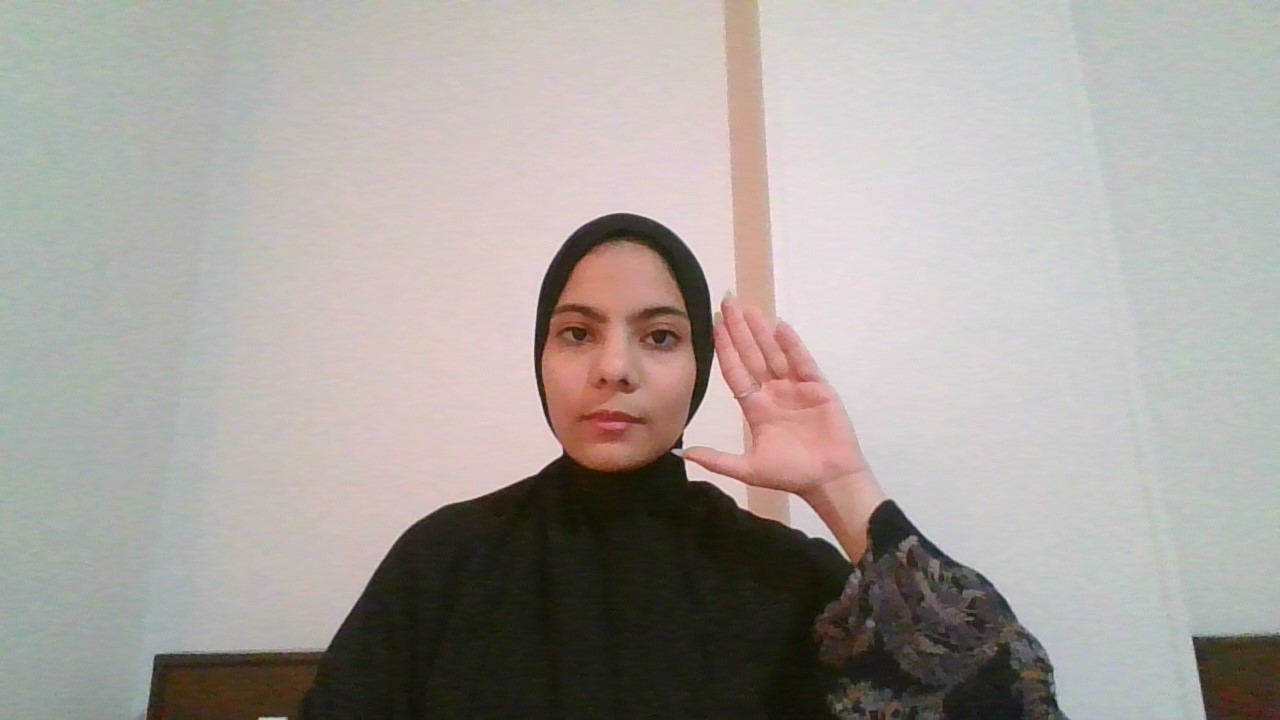hello: (694, 272, 860, 511)
